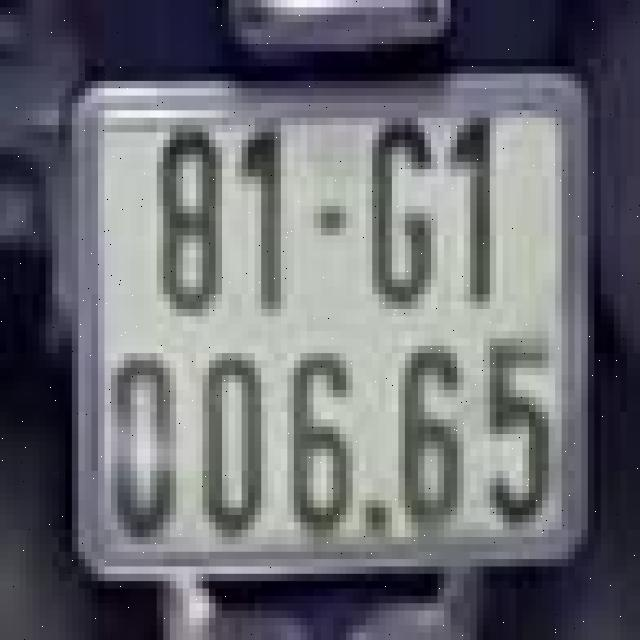0: (108, 349, 186, 541), (199, 349, 265, 541)
1: (235, 121, 294, 313), (448, 110, 500, 309)
5: (483, 328, 555, 534)
6: (284, 334, 363, 540), (389, 338, 467, 530)
8: (154, 121, 226, 320)
G: (366, 118, 438, 309)
